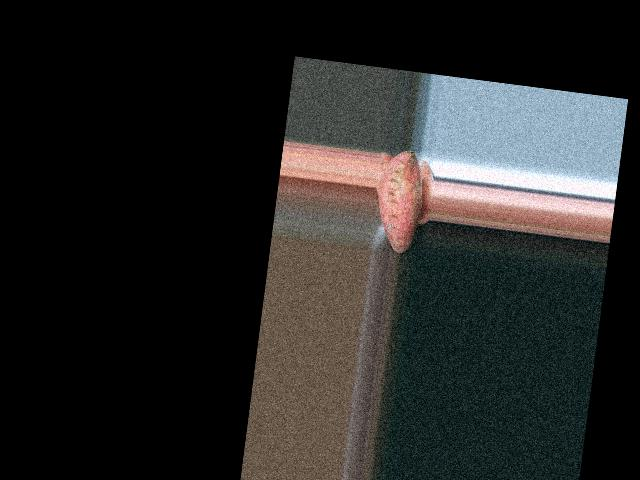sweet_potato: (374, 147, 423, 253)
